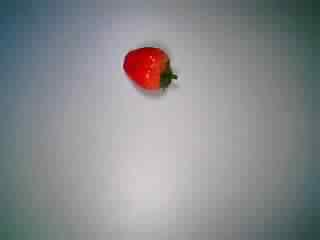strawberry: (111, 40, 179, 104)
